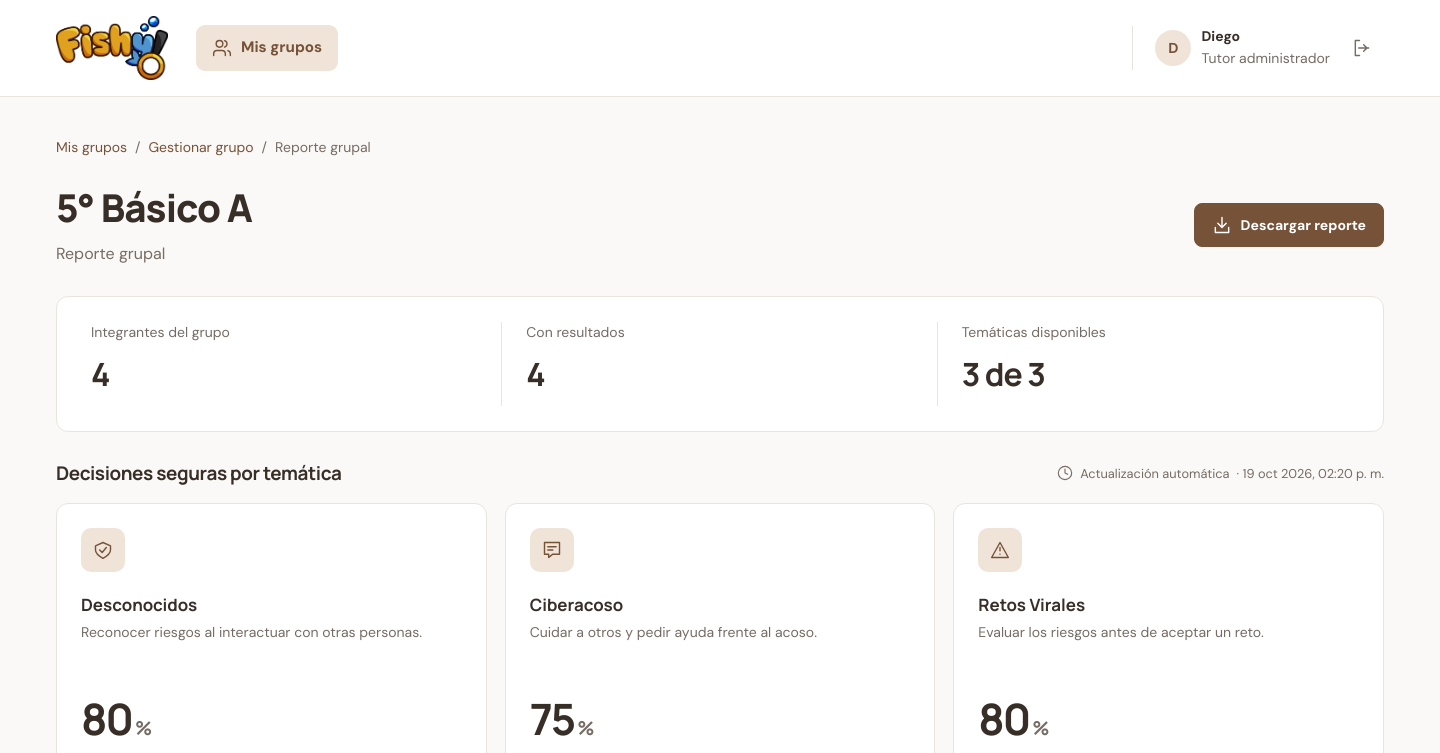
Test: criterios de aceptación en las pantallas › descargar genera un PDF con el último agregado disponible
The width and height of the screenshot is (1440, 753).
Expected: the heading "5° Básico A" is shown, [56,184,252,232]
Click the button "Descargar reporte" at (1289, 225), box [1194,203,1384,247]
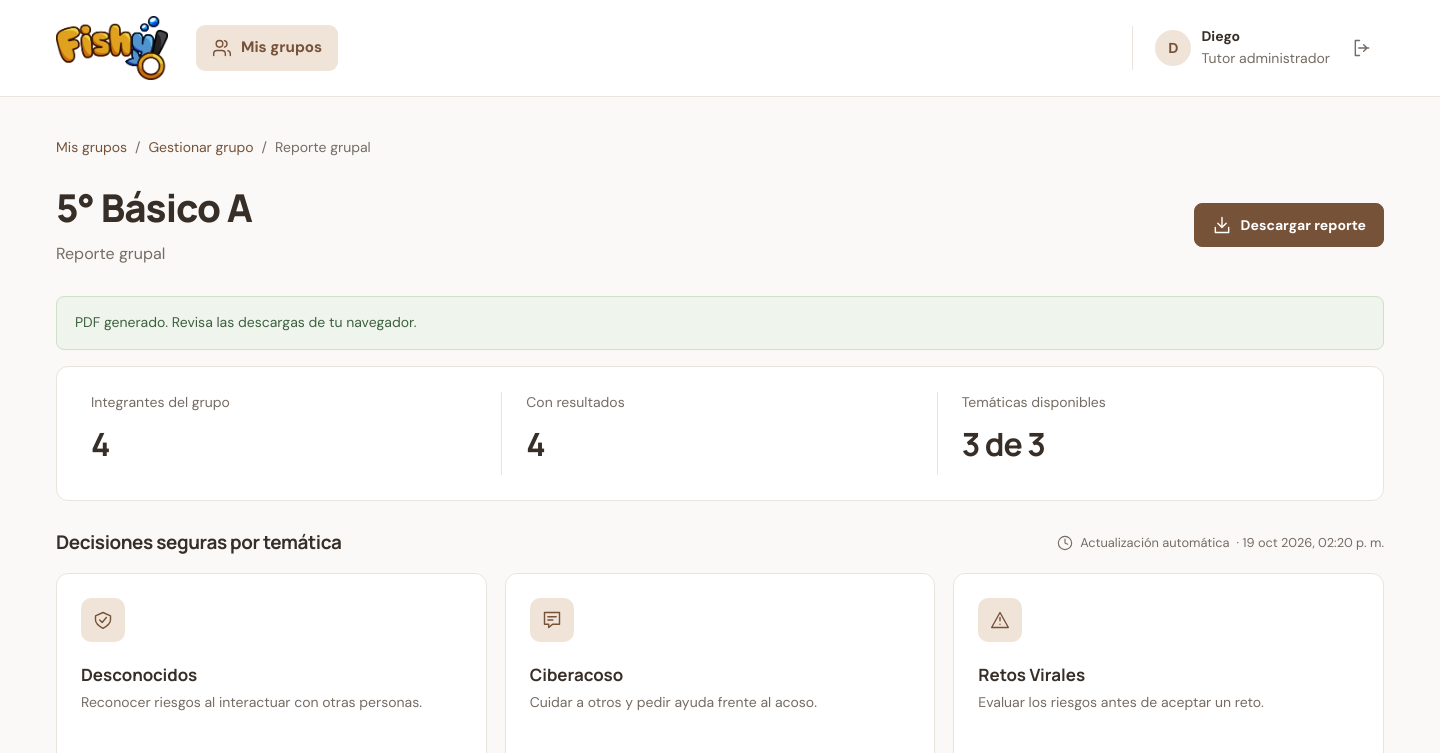
Expected: the text "PDF generado. Revisa las descargas de tu navegador." is shown, [56,296,1384,350]
